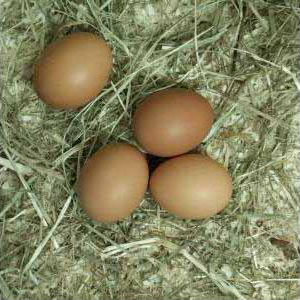egg: (34, 32, 111, 110), (77, 143, 149, 224), (150, 154, 234, 222), (133, 89, 214, 157)
